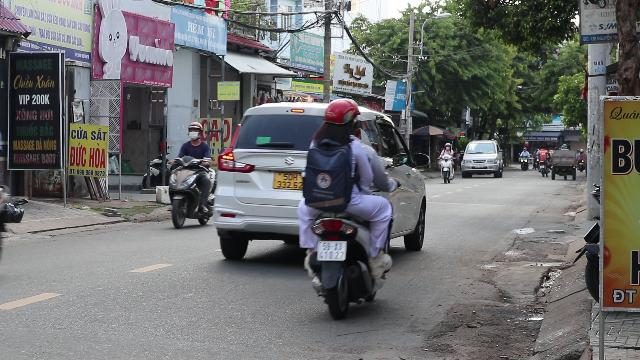helmet: (317, 98, 361, 144), (187, 121, 203, 141)
licenseplate: (317, 240, 345, 260)
motorcyclist: (293, 94, 397, 318), (166, 120, 217, 228)
